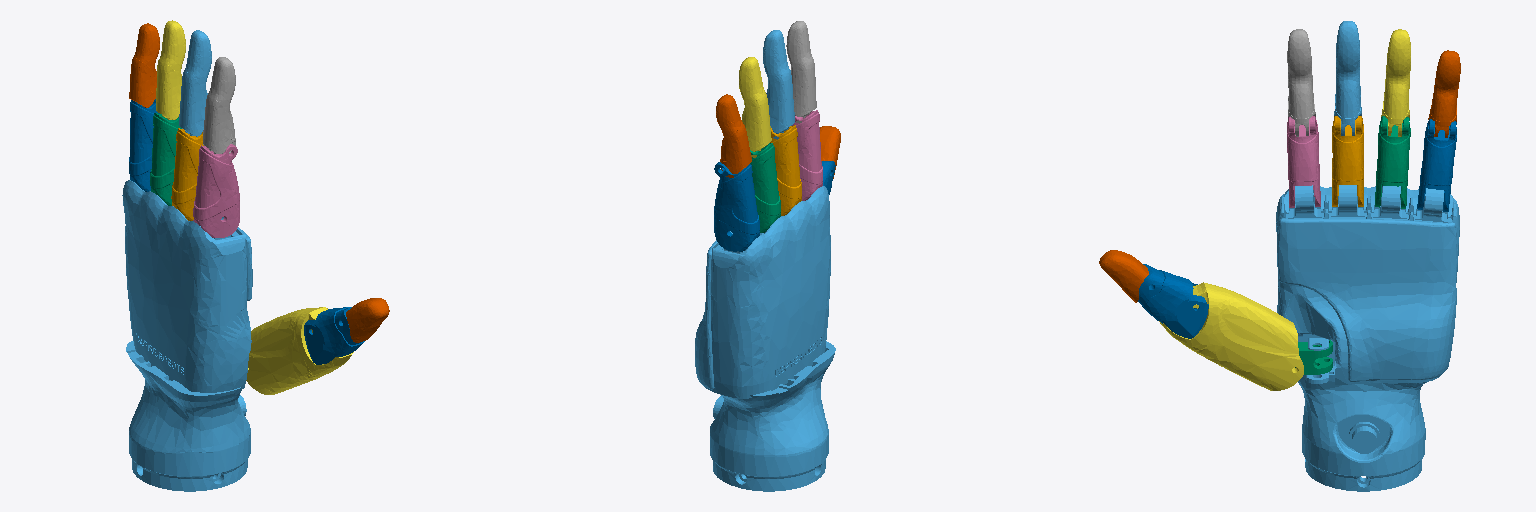
URDF robot description (inspire_hand_left):
<?xml version="1.0" encoding="utf-8"?>
<robot name="inspire_hand_left">
  <!--  joint limit reference: https://en.inspire-robots.com/-->
  <link name="base"/>
  <joint name="base_joint" type="fixed">
    <parent link="base"/>
    <child link="hand_base_link"/>
    <origin xyz="0 0 0" rpy="-1.5707963 0 3.14159"/>
    <!-- <origin xyz="-0.08 -0.75 0.98" rpy="2.0707963 1.5707963 -1.8707963"/> -->
    <!-- <origin xyz="-0.05 -0.01 0.02" rpy="-1.6707963 -1.6707963 3.64159"/>  -->
  </joint>
  <link name="hand_base_link">
    <parent link="base"/>
    <inertial>
      <origin xyz="-0.0025264 -0.066047 -0.0019598" rpy="0 0 0"/>
      <mass value="0.14143"/>
      <inertia ixx="0.00012281" ixy="2.1711E-06" ixz="1.7709E-06" iyy="8.3832E-05" iyz="-1.6551E-06" izz="7.6663E-05"/>
    </inertial>
    <visual>
      <origin xyz="0 0 0" rpy="0 0 0"/>
      <geometry>
        <mesh filename="meshes/visual/left_base_link.obj"/>
      </geometry>
    </visual>
    <collision>
      <origin xyz="0 -0.0136 0" rpy="1.57079 0 0"/>
      <geometry>
        <cylinder length="0.0278" radius="0.028"/>
      </geometry>
    </collision>
    <collision>
      <origin xyz="-0.0032 -0.038 0" rpy="0 0 0"/>
      <geometry>
        <box size="0.0391 0.0202 0.0574"/>
      </geometry>
    </collision>
    <collision>
      <origin xyz="-0.0032 -0.0682 0" rpy="0 0 0"/>
      <geometry>
        <box size="0.0391 0.04 0.0814"/>
      </geometry>
    </collision>
    <collision>
      <origin xyz="0 -0.1081 0" rpy="0 0 0"/>
      <geometry>
        <box size="0.0322 0.04 0.0814"/>
      </geometry>
    </collision>
    <collision>
      <origin xyz="-0.0016 -0.1340 -0.0309" rpy="0 0 0"/>
      <geometry>
        <box size="0.0125 0.0111 0.0089"/>
      </geometry>
    </collision>
    <collision>
      <origin xyz="-0.0016 -0.1340 -0.0118" rpy="0 0 0"/>
      <geometry>
        <box size="0.0125 0.0111 0.0089"/>
      </geometry>
    </collision>
    <collision>
      <origin xyz="-0.0016 -0.1340 0.0070" rpy="0 0 0"/>
      <geometry>
        <box size="0.0125 0.0111 0.0089"/>
      </geometry>
    </collision>
    <collision>
      <origin xyz="-0.0016 -0.1340 0.0262" rpy="0 0 0"/>
      <geometry>
        <box size="0.0125 0.0111 0.0089"/>
      </geometry>
    </collision>
  </link>
  <link name="thumb_proximal_base">
    <inertial>
      <origin xyz="0.0048817 0.0009382 -0.00722" rpy="0 0 0"/>
      <mass value="0.0018869"/>
      <inertia ixx="5.816E-08" ixy="-1.4539E-08" ixz="-4.491E-09" iyy="7.9161E-08" iyz="-1.8727E-09" izz="6.7433E-08"/>
    </inertial>
    <visual>
      <origin xyz="0 0 0" rpy="0 0 0"/>
      <geometry>
        <mesh filename="meshes/visual/left_thumb_proximal_base.obj"/>
      </geometry>
    </visual>
    <collision>
      <origin xyz="0 0 0" rpy="0 0 0"/>
      <geometry>
        <mesh filename="meshes/collision/left_thumb_proximal_base.obj"/>
      </geometry>
    </collision>
  </link>
  <joint name="thumb_proximal_yaw_joint" type="revolute">
    <origin xyz="-0.01696 -0.0691 0.02045" rpy="1.5708 -1.5708 0"/>
    <parent link="hand_base_link"/>
    <child link="thumb_proximal_base"/>
    <axis xyz="0 0 1"/>
    <limit lower="0" upper="1.308" effort="1" velocity="0.5"/>
  </joint>
  <link name="thumb_proximal">
    <inertial>
      <origin xyz="0.021932 -0.012785 -0.0080386" rpy="0 0 0"/>
      <mass value="0.0066075"/>
      <inertia ixx="1.5686E-06" ixy="7.8296E-07" ixz="8.9143E-10" iyy="1.7353E-06" iyz="1.0191E-09" izz="2.786E-06"/>
    </inertial>
    <visual>
      <origin xyz="0 0 0" rpy="0 0 0"/>
      <geometry>
        <mesh filename="meshes/visual/left_thumb_proximal.obj"/>
      </geometry>
    </visual>
    <collision>
      <origin xyz="0 0 0" rpy="0 0 0"/>
      <geometry>
        <mesh filename="meshes/collision/left_thumb_proximal.obj"/>
      </geometry>
    </collision>
  </link>
  <joint name="thumb_proximal_pitch_joint" type="revolute">
    <origin xyz="0.0099867 0.0098242 -0.0089" rpy="-1.5708 0 0.16939"/>
    <parent link="thumb_proximal_base"/>
    <child link="thumb_proximal"/>
    <axis xyz="0 0 -1"/>
    <limit lower="0" upper="0.6" effort="1" velocity="0.5"/>
  </joint>
  <link name="thumb_intermediate">
    <inertial>
      <origin xyz="0.0095544 0.0016282 -0.0071997" rpy="0 0 0"/>
      <mass value="0.0037847"/>
      <inertia ixx="3.6981E-07" ixy="9.8581E-08" ixz="-4.7469E-12" iyy="3.2394E-07" iyz="-1.0939E-12" izz="4.6531E-07"/>
    </inertial>
    <visual>
      <origin xyz="0 0 0" rpy="0 0 0"/>
      <geometry>
        <mesh filename="meshes/visual/left_thumb_intermediate.obj"/>
      </geometry>
    </visual>
    <collision>
      <origin xyz="0 0 0" rpy="0 0 0"/>
      <geometry>
        <mesh filename="meshes/collision/left_thumb_intermediate.obj"/>
      </geometry>
    </collision>
  </link>
  <joint name="thumb_intermediate_joint" type="revolute">
    <origin xyz="0.04407 -0.034553 -0.0008" rpy="0 0 0"/>
    <parent link="thumb_proximal"/>
    <child link="thumb_intermediate"/>
    <axis xyz="0 0 -1"/>
    <limit lower="0" upper="0.8" effort="1" velocity="0.5"/>
    <mimic joint="thumb_proximal_pitch_joint" multiplier="1.334" offset="0"/>
  </joint>
  <link name="thumb_distal">
    <inertial>
      <origin xyz="0.0092888 -0.0049529 -0.0060033" rpy="0 0 0"/>
      <mass value="0.0033441"/>
      <inertia ixx="1.3632E-07" ixy="5.6788E-08" ixz="-9.2764E-11" iyy="1.4052E-07" iyz="1.2283E-10" izz="2.0026E-07"/>
    </inertial>
    <visual>
      <origin xyz="0 0 0" rpy="0 0 0"/>
      <geometry>
        <mesh filename="meshes/visual/left_thumb_distal.obj"/>
      </geometry>
    </visual>
    <collision>
      <origin xyz="0 0 0" rpy="0 0 0"/>
      <geometry>
        <mesh filename="meshes/collision/left_thumb_distal.obj" scale="1 1 1"/>
      </geometry>
    </collision>
  </link>
  <joint name="thumb_distal_joint" type="revolute">
    <origin xyz="0.020248 -0.010156 -0.0012" rpy="0 0 0"/>
    <parent link="thumb_intermediate"/>
    <child link="thumb_distal"/>
    <axis xyz="0 0 -1"/>
    <limit lower="0" upper="0.4" effort="1" velocity="0.5"/>
    <mimic joint="thumb_proximal_pitch_joint" multiplier="0.667" offset="0"/>
  </joint>
  <link name="index_proximal">
    <inertial>
      <origin xyz="0.0012259 -0.011942 -0.0060001" rpy="0 0 0"/>
      <mass value="0.0042403"/>
      <inertia ixx="6.6232E-07" ixy="1.5775E-08" ixz="1.8515E-12" iyy="2.1146E-07" iyz="5.0828E-12" izz="6.9398E-07"/>
    </inertial>
    <visual>
      <origin xyz="0 0 0" rpy="0 0 0"/>
      <geometry>
        <mesh filename="meshes/visual/left_index_proximal.obj"/>
      </geometry>
    </visual>
    <collision>
      <origin xyz="0 0 0" rpy="0 0 0"/>
      <geometry>
        <mesh filename="meshes/collision/left_index_proximal.obj"/>
      </geometry>
    </collision>
  </link>
  <joint name="index_proximal_joint" type="revolute">
    <origin xyz="0.00028533 -0.13653 0.032268" rpy="-0.034907 0 0"/>
    <parent link="hand_base_link"/>
    <child link="index_proximal"/>
    <axis xyz="0 0 -1"/>
    <limit lower="0" upper="1.47" effort="1" velocity="0.5"/>
  </joint>
  <link name="index_intermediate">
    <inertial>
      <origin xyz="0.0019697 -0.019589 -0.005" rpy="0 0 0"/>
      <mass value="0.0045683"/>
      <inertia ixx="7.6111E-07" ixy="-8.7637E-08" ixz="-3.7751E-13" iyy="9.6076E-08" iyz="-9.9444E-13" izz="7.8179E-07"/>
    </inertial>
    <visual>
      <origin xyz="0 0 0" rpy="0 0 0"/>
      <geometry>
        <mesh filename="meshes/visual/left_index_intermediate.obj"/>
      </geometry>
    </visual>
    <collision>
      <origin xyz="0 0 0" rpy="0 0 0"/>
      <geometry>
        <mesh filename="meshes/collision/left_index_intermediate.obj"/>
      </geometry>
    </collision>
  </link>
  <joint name="index_intermediate_joint" type="revolute">
    <origin xyz="-0.0026138 -0.032026 -0.001" rpy="0 0 0"/>
    <parent link="index_proximal"/>
    <child link="index_intermediate"/>
    <axis xyz="0 0 -1"/>
    <limit lower="-0.04545" upper="1.56" effort="1" velocity="0.5"/>
    <mimic joint="index_proximal_joint" multiplier="1.06399" offset="-0.04545"/>
  </joint>
  <link name="middle_proximal">
    <inertial>
      <origin xyz="0.001297 -0.011934 -0.0060001" rpy="0 0 0"/>
      <mass value="0.0042403"/>
      <inertia ixx="6.6211E-07" ixy="1.8461E-08" ixz="1.8002E-12" iyy="2.1167E-07" iyz="6.6808E-12" izz="6.9397E-07"/>
    </inertial>
    <visual>
      <origin xyz="0 0 0" rpy="0 0 0"/>
      <geometry>
        <mesh filename="meshes/visual/left_index_proximal.obj"/>
      </geometry>
    </visual>
    <collision>
      <origin xyz="0 0 0" rpy="0 0 0"/>
      <geometry>
        <mesh filename="meshes/collision/left_index_proximal.obj"/>
      </geometry>
    </collision>
  </link>
  <joint name="middle_proximal_joint" type="revolute">
    <origin xyz="0.00028533 -0.1371 0.01295" rpy="0 0 0"/>
    <parent link="hand_base_link"/>
    <child link="middle_proximal"/>
    <axis xyz="0 0 -1"/>
    <limit lower="0" upper="1.47" effort="1" velocity="0.5"/>
  </joint>
  <link name="middle_intermediate">
    <inertial>
      <origin xyz="0.001921 -0.020796 -0.005" rpy="0 0 0"/>
      <mass value="0.0050396"/>
      <inertia ixx="9.5822E-07" ixy="-1.1425E-07" ixz="-2.4791E-12" iyy="1.0646E-07" iyz="-5.9173E-12" izz="9.8384E-07"/>
    </inertial>
    <visual>
      <origin xyz="0 0 0" rpy="0 0 0"/>
      <geometry>
        <mesh filename="meshes/visual/left_middle_intermediate.obj"/>
      </geometry>
    </visual>
    <collision>
      <origin xyz="0 0 0" rpy="0 0 0"/>
      <geometry>
        <mesh filename="meshes/collision/left_middle_intermediate.obj"/>
      </geometry>
    </collision>
  </link>
  <joint name="middle_intermediate_joint" type="revolute">
    <origin xyz="-0.0024229 -0.032041 -0.001" rpy="0 0 0"/>
    <parent link="middle_proximal"/>
    <child link="middle_intermediate"/>
    <axis xyz="0 0 -1"/>
    <limit lower="-0.04545" upper="1.56" effort="1" velocity="0.5"/>
    <mimic joint="middle_proximal_joint" multiplier="1.06399" offset="-0.04545"/>
  </joint>
  <link name="ring_proximal">
    <inertial>
      <origin xyz="0.001297 -0.011934 -0.0060002" rpy="0 0 0"/>
      <mass value="0.0042403"/>
      <inertia ixx="6.6211E-07" ixy="1.8461E-08" ixz="1.5793E-12" iyy="2.1167E-07" iyz="6.6868E-12" izz="6.9397E-07"/>
    </inertial>
    <visual>
      <origin xyz="0 0 0" rpy="0 0 0"/>
      <geometry>
        <mesh filename="meshes/visual/left_index_proximal.obj"/>
      </geometry>
    </visual>
    <collision>
      <origin xyz="0 0 0" rpy="0 0 0"/>
      <geometry>
        <mesh filename="meshes/collision/left_index_proximal.obj"/>
      </geometry>
    </collision>
  </link>
  <joint name="ring_proximal_joint" type="revolute">
    <origin xyz="0.00028533 -0.13691 -0.0062872" rpy="0.05236 0 0"/>
    <parent link="hand_base_link"/>
    <child link="ring_proximal"/>
    <axis xyz="0 0 -1"/>
    <limit lower="0" upper="1.47" effort="1" velocity="0.5"/>
  </joint>
  <link name="ring_intermediate">
    <inertial>
      <origin xyz="0.0021753 -0.019567 -0.005" rpy="0 0 0"/>
      <mass value="0.0045683"/>
      <inertia ixx="7.6286E-07" ixy="-8.0635E-08" ixz="-6.1562E-13" iyy="9.431E-08" iyz="-5.8619E-13" izz="7.8177E-07"/>
    </inertial>
    <visual>
      <origin xyz="0 0 0" rpy="0 0 0"/>
      <geometry>
        <mesh filename="meshes/visual/left_index_intermediate.obj"/>
      </geometry>
    </visual>
    <collision>
      <origin xyz="0 0 0" rpy="0 0 0"/>
      <geometry>
        <mesh filename="meshes/collision/left_index_intermediate.obj"/>
      </geometry>
    </collision>
  </link>
  <joint name="ring_intermediate_joint" type="revolute">
    <origin xyz="-0.0024229 -0.032041 -0.001" rpy="0 0 0"/>
    <parent link="ring_proximal"/>
    <child link="ring_intermediate"/>
    <axis xyz="0 0 -1"/>
    <limit lower="-0.04545" upper="1.56" effort="1" velocity="0.5"/>
    <mimic joint="ring_proximal_joint" multiplier="1.06399" offset="-0.04545"/>
  </joint>
  <link name="pinky_proximal">
    <inertial>
      <origin xyz="0.001297 -0.011934 -0.0060001" rpy="0 0 0"/>
      <mass value="0.0042403"/>
      <inertia ixx="6.6211E-07" ixy="1.8461E-08" ixz="1.6907E-12" iyy="2.1167E-07" iyz="6.9334E-12" izz="6.9397E-07"/>
    </inertial>
    <visual>
      <origin xyz="0 0 0" rpy="0 0 0"/>
      <geometry>
        <mesh filename="meshes/visual/left_index_proximal.obj"/>
      </geometry>
    </visual>
    <collision>
      <origin xyz="0 0 0" rpy="0 0 0"/>
      <geometry>
        <mesh filename="meshes/collision/left_index_proximal.obj"/>
      </geometry>
    </collision>
  </link>
  <joint name="pinky_proximal_joint" type="revolute">
    <origin xyz="0.00028533 -0.13571 -0.025488" rpy="0.10472 0 0"/>
    <parent link="hand_base_link"/>
    <child link="pinky_proximal"/>
    <axis xyz="0 0 -1"/>
    <limit lower="0" upper="1.47" effort="1" velocity="0.5"/>
  </joint>
  <link name="pinky_intermediate">
    <inertial>
      <origin xyz="0.0024748 -0.016203 -0.0050031" rpy="0 0 0"/>
      <mass value="0.0035996"/>
      <inertia ixx="4.3913E-07" ixy="-4.1418E-08" ixz="3.7168E-11" iyy="7.0247E-08" iyz="-5.8613E-11" izz="4.4867E-07"/>
    </inertial>
    <visual>
      <origin xyz="0 0 0" rpy="0 0 0"/>
      <geometry>
        <mesh filename="meshes/visual/left_pinky_intermediate.obj"/>
      </geometry>
    </visual>
    <collision>
      <origin xyz="0 0 0" rpy="0 0 0"/>
      <geometry>
        <mesh filename="meshes/collision/left_pinky_intermediate.obj"/>
      </geometry>
    </collision>
  </link>
  <joint name="pinky_intermediate_joint" type="revolute">
    <origin xyz="-0.0024229 -0.032041 -0.001" rpy="0 0 0"/>
    <parent link="pinky_proximal"/>
    <child link="pinky_intermediate"/>
    <axis xyz="0 0 -1"/>
    <limit lower="-0.04545" upper="1.56" effort="1" velocity="0.5"/>
    <mimic joint="pinky_proximal_joint" multiplier="1.06399" offset="-0.04545"/>
  </joint>

  <link name='thumb_tip'/>
  <joint name="thumb_tip_joint" type="fixed">
    <origin xyz="0.0202 -0.0140 -0.006" rpy="0 0 0"/>
    <parent link="thumb_distal"/>
    <child link="thumb_tip"/>
  </joint>
  <link name='index_tip'/>
  <joint name="index_tip_joint" type="fixed">
    <origin xyz="-0.0008 -0.045 -0.005" rpy="0 0 0"/>
    <parent link="index_intermediate"/>
    <child link="index_tip"/>
  </joint>
  <link name='middle_tip'/>
  <joint name="middle_tip_joint" type="fixed">
    <origin xyz="-0.001 -0.048 -0.005" rpy="0 0 0"/>
    <parent link="middle_intermediate"/>
    <child link="middle_tip"/>
  </joint>
  <link name='ring_tip'/>
  <joint name="ring_tip_joint" type="fixed">
    <origin xyz="-0.0008 -0.045 -0.005" rpy="0 0 0"/>
    <parent link="ring_intermediate"/>
    <child link="ring_tip"/>
  </joint>
  <link name='pinky_tip'/>
  <joint name="pinky_tip_joint" type="fixed">
    <origin xyz="-0.0008 -0.037 -0.005" rpy="0 0 0"/>
    <parent link="pinky_intermediate"/>
    <child link="pinky_tip"/>
  </joint>
</robot>

--- Render facts (derived) ---
The picture shows the robot from 3 angles, left to right: view 1: azimuth 30°, elevation 25°; view 2: azimuth 150°, elevation 25°; view 3: azimuth 270°, elevation 25°; orthographic projection.
Robot: inspire_hand_left — 19 links, 18 joints (12 revolute, 6 fixed); root link base; default pose: all joints at 0.
Links seen in each view (by area): view 1: hand_base_link, thumb_proximal, index_proximal, middle_intermediate, index_intermediate, ring_intermediate, thumb_intermediate, middle_proximal, ring_proximal, pinky_intermediate, pinky_proximal, thumb_distal; view 2: hand_base_link, pinky_proximal, middle_intermediate, ring_intermediate, index_intermediate, pinky_intermediate, middle_proximal, ring_proximal, index_proximal, thumb_distal; view 3: hand_base_link, thumb_proximal, thumb_intermediate, middle_intermediate, index_intermediate, ring_intermediate, pinky_proximal, middle_proximal, ring_proximal, index_proximal, pinky_intermediate, thumb_distal (+1 smaller).
Link boxes in pixels (x1=…): hand_base_link: x1=122, y1=180, x2=252, y2=491; thumb_proximal: x1=246, y1=307, x2=353, y2=394; index_proximal: x1=193, y1=144, x2=239, y2=237; middle_intermediate: x1=179, y1=30, x2=211, y2=136; index_intermediate: x1=203, y1=57, x2=235, y2=153; ring_intermediate: x1=156, y1=20, x2=185, y2=119; thumb_intermediate: x1=304, y1=307, x2=364, y2=364; middle_proximal: x1=171, y1=128, x2=203, y2=220; ring_proximal: x1=150, y1=113, x2=181, y2=205; pinky_intermediate: x1=129, y1=23, x2=159, y2=107; pinky_proximal: x1=129, y1=99, x2=159, y2=191; thumb_distal: x1=346, y1=298, x2=389, y2=342; hand_base_link: x1=695, y1=186, x2=835, y2=491; pinky_proximal: x1=714, y1=162, x2=759, y2=251; middle_intermediate: x1=763, y1=30, x2=794, y2=139; ring_intermediate: x1=739, y1=57, x2=771, y2=157; index_intermediate: x1=786, y1=21, x2=816, y2=123; pinky_intermediate: x1=716, y1=94, x2=751, y2=177; middle_proximal: x1=770, y1=125, x2=801, y2=215; ring_proximal: x1=750, y1=143, x2=780, y2=232; index_proximal: x1=792, y1=110, x2=822, y2=200; thumb_distal: x1=820, y1=126, x2=840, y2=178; hand_base_link: x1=1276, y1=185, x2=1459, y2=491; thumb_proximal: x1=1159, y1=282, x2=1303, y2=390; thumb_intermediate: x1=1138, y1=264, x2=1208, y2=338; middle_intermediate: x1=1334, y1=21, x2=1361, y2=135; index_intermediate: x1=1287, y1=29, x2=1315, y2=136; ring_intermediate: x1=1381, y1=29, x2=1410, y2=136; pinky_proximal: x1=1417, y1=119, x2=1456, y2=211; middle_proximal: x1=1332, y1=116, x2=1363, y2=206; ring_proximal: x1=1375, y1=116, x2=1410, y2=208; index_proximal: x1=1287, y1=116, x2=1320, y2=207; pinky_intermediate: x1=1428, y1=50, x2=1460, y2=137; thumb_distal: x1=1099, y1=250, x2=1148, y2=302.
Bounding box of the posed robot: 0.0657 × 0.1602 × 0.2182 m (x, y, z).
13 mesh visuals loaded from 9 distinct referenced files (9 OBJ).
